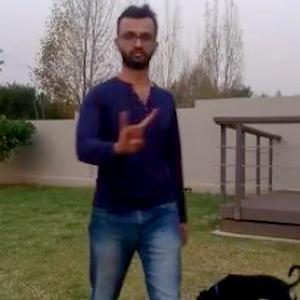takeoff-hand: (113, 98, 160, 157)
